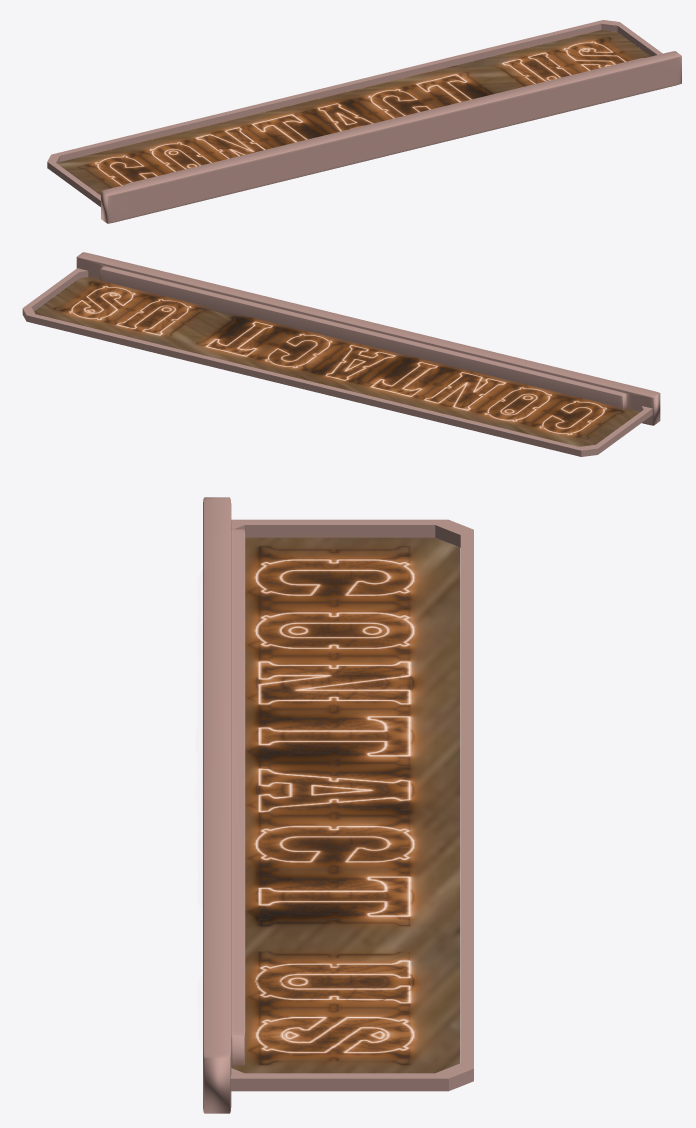
The model's file is BoardWebsiteNIX.glb.
3 views of the same model, one above another, from view 1: azimuth 30°, elevation 25°; view 2: azimuth 150°, elevation 25°; view 3: azimuth 270°, elevation 25° (orthographic). The views are drawn at different scales.
Parts seen in each view (by area): view 1: Cube.002, Plane.010, Plane.011, Plane.012; view 2: Plane.010, Cube.002, Plane.011, Plane.012; view 3: Plane.010, Plane.011, Cube.002, Plane.012.
Boxes of the visible parts, x1=… form: Cube.002: x1=101, y1=51, x2=681, y2=223; Plane.010: x1=76, y1=35, x2=643, y2=188; Plane.011: x1=58, y1=30, x2=650, y2=195; Plane.012: x1=47, y1=20, x2=662, y2=206; Plane.010: x1=49, y1=279, x2=626, y2=439; Cube.002: x1=76, y1=252, x2=660, y2=425; Plane.011: x1=34, y1=277, x2=639, y2=446; Plane.012: x1=22, y1=268, x2=652, y2=456; Plane.010: x1=237, y1=543, x2=441, y2=1069; Plane.011: x1=231, y1=537, x2=460, y2=1073; Cube.002: x1=203, y1=497, x2=245, y2=1113; Plane.012: x1=230, y1=519, x2=473, y2=1091.
Size of the model in its own units: 5.46 by 0.2535 by 1.39.
Materials: 3 (2 with a texture image).
